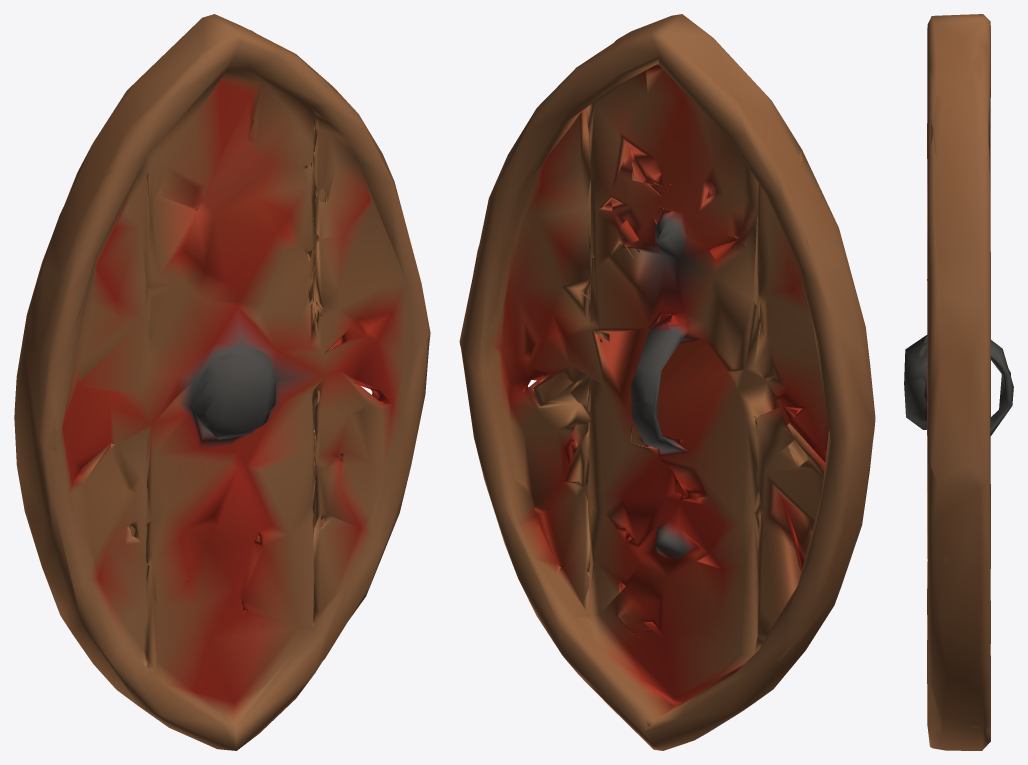
The model's file is gen3d-tribal-shield-lod0.glb.
3 views of the same model, side by side, from view 1: azimuth 30°, elevation 25°; view 2: azimuth 150°, elevation 25°; view 3: azimuth 270°, elevation 25° (orthographic).
Visible parts, largest first — view 1: part_0; view 2: part_0; view 3: part_0.
Boxes of the visible parts, box(x1,y1,x2,y2) form: part_0: box(14, 14, 430, 750); part_0: box(459, 14, 875, 750); part_0: box(904, 14, 1013, 750).
Size of the model in its own units: 0.5723 by 0.9956 by 0.1352.
